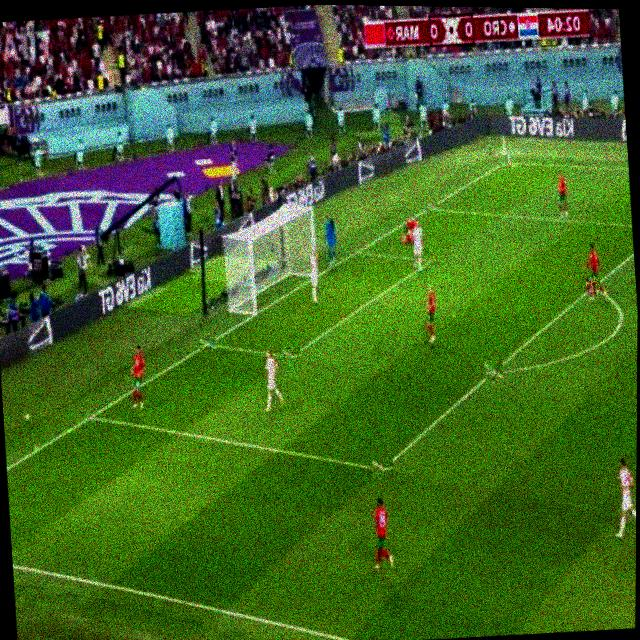bigarea_bottom_inner: (371, 455, 394, 482)
bigarea_bottom_outter: (83, 406, 101, 427)
bigarea_top_outter: (422, 198, 438, 217)
bottom_arc_area_intersection: (484, 360, 503, 383)
corner: (498, 153, 515, 169)
smallarea_bottom_inner: (281, 342, 301, 368)
smallarea_bottom_outter: (199, 332, 216, 352)
smallarea_top_inner: (422, 249, 439, 270)
smallarea_top_outter: (351, 240, 367, 260)
top_arc_area_intersection: (585, 276, 600, 295)
